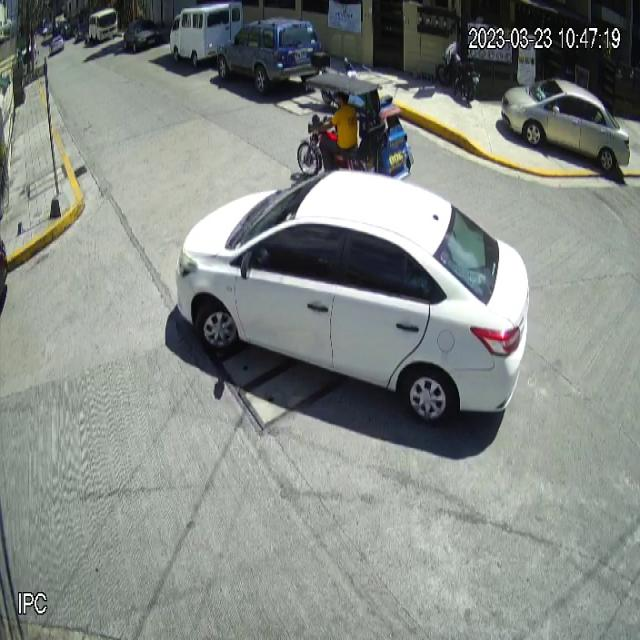Car: (174, 166, 530, 428), (501, 78, 630, 171), (216, 16, 323, 96)
Tricycle: (297, 72, 414, 181)
Van: (169, 0, 242, 69)
